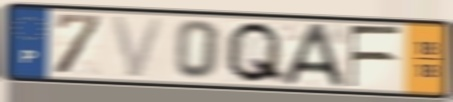0: (172, 17, 222, 82)
7: (53, 12, 105, 77)
A: (280, 22, 348, 88)
F: (347, 24, 404, 90)
Q: (222, 19, 289, 86)
V: (108, 14, 168, 80)
